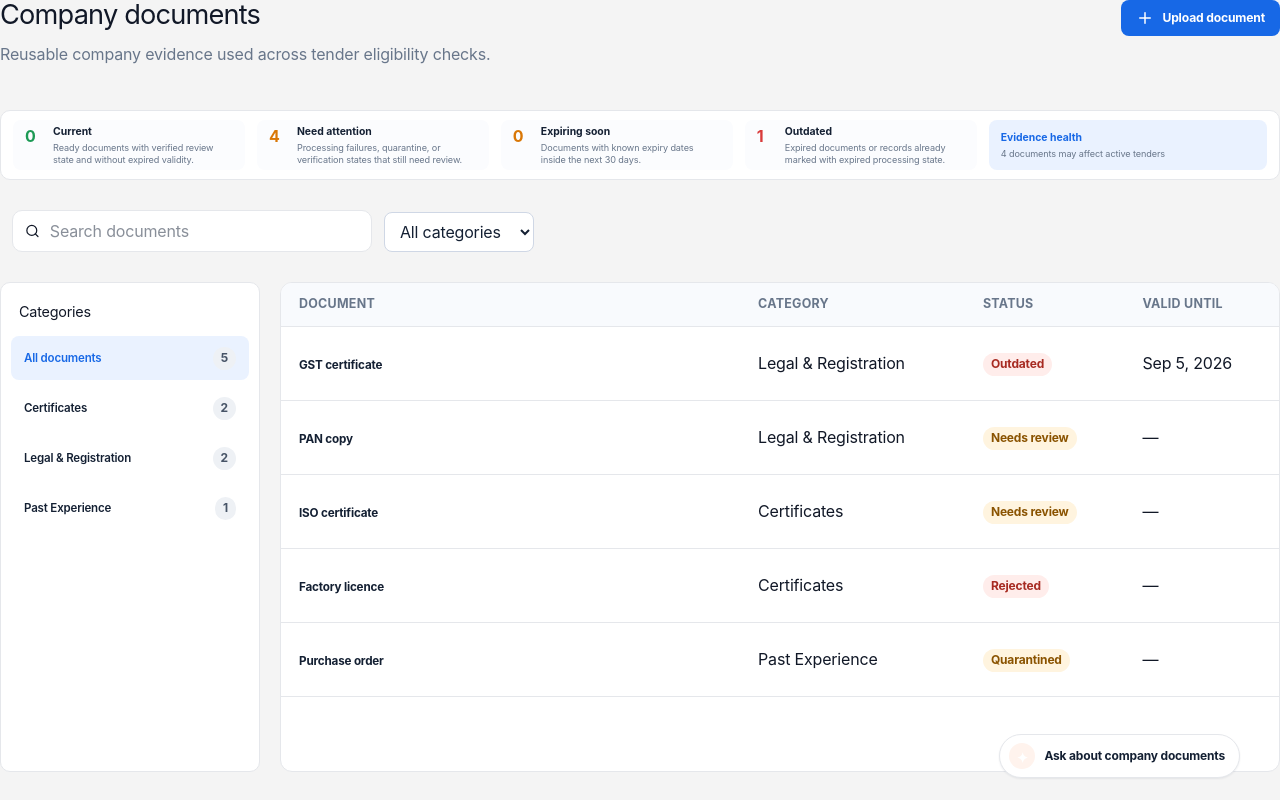
Test: company docs workspace › shows truthful supported-type guidance in the upload modal
The image size is (1280, 800).
Click the button "Upload document".
click(1201, 18)  # box [1121,0,1279,36]
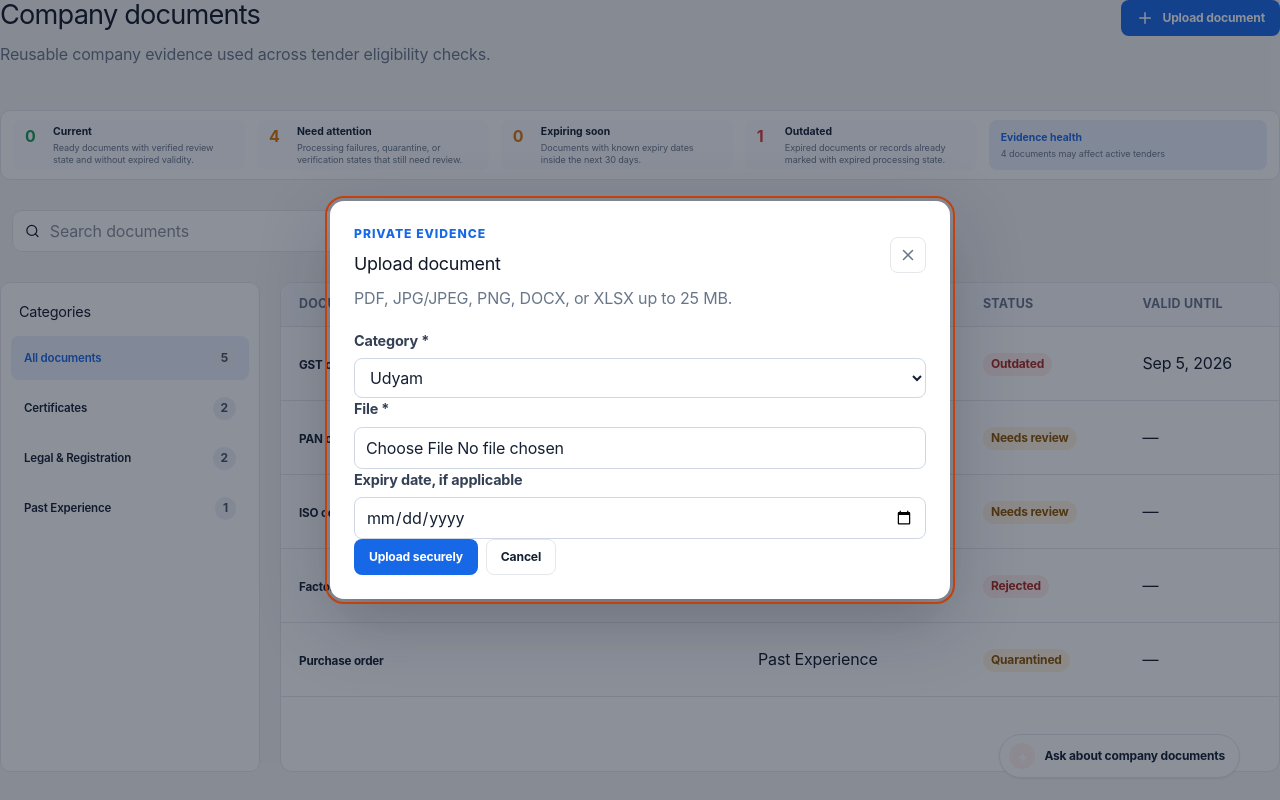
Expected: the dialog named "Upload company document" shows "PDF, JPG/JPEG, PNG, DOCX, or XLSX up to 25 MB.", [354,288,732,308]
Expected: the dropdown shows "Udyam", [354,358,926,398]
